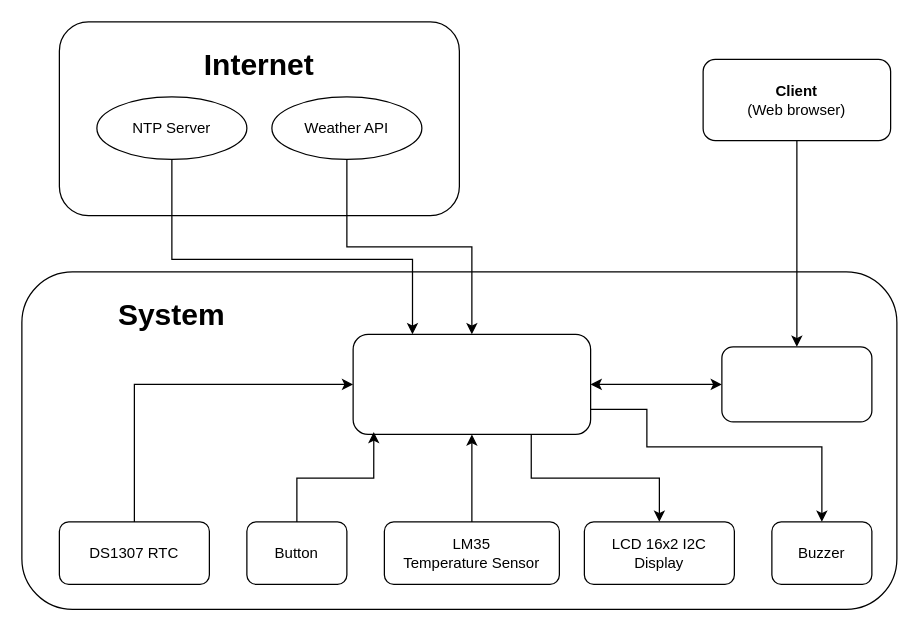
Image size: 919x631. Some labels were removed from this diagram. The shapes that lost their labels are listed below. From the top down, each one's centre as x and y in pixels, then its label:
point (471, 383): ESP32 (MCU + Embedded Web Server)
point (796, 384): Web local
